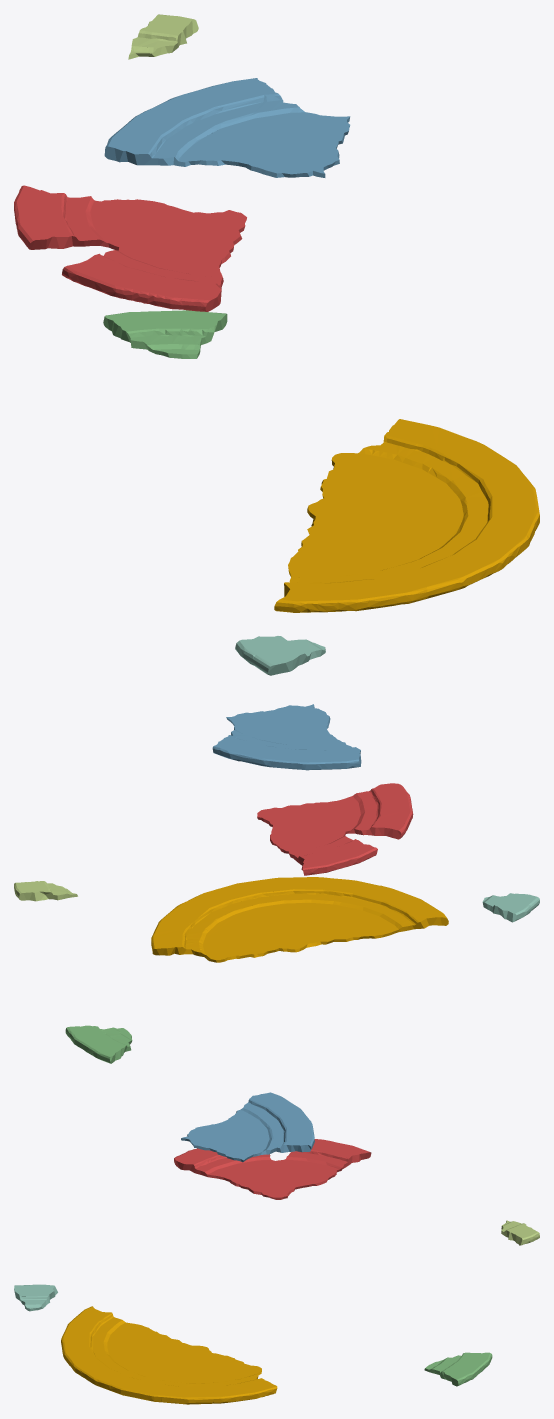
The model's file is fractured_78_6pcs_transformed.glb.
3 renders of one model, top to bottom at view 1: azimuth 30°, elevation 25°; view 2: azimuth 150°, elevation 25°; view 3: azimuth 270°, elevation 25°, orthographic. The views are drawn at different scales.
Visible parts, largest first — view 1: piece_0.obj, piece_1.obj, piece_2.obj, piece_3.obj, piece_4.obj, piece_5.obj; view 2: piece_0.obj, piece_1.obj, piece_2.obj, piece_3.obj, piece_4.obj, piece_5.obj; view 3: piece_0.obj, piece_1.obj, piece_2.obj, piece_3.obj, piece_4.obj, piece_5.obj.
Boxes of the visible parts, left/top/right/bottom form: piece_0.obj: left=274, top=419, right=539, bottom=612; piece_1.obj: left=14, top=185, right=246, bottom=311; piece_2.obj: left=104, top=78, right=350, bottom=177; piece_3.obj: left=103, top=310, right=227, bottom=358; piece_4.obj: left=235, top=636, right=325, bottom=675; piece_5.obj: left=128, top=14, right=198, bottom=59; piece_0.obj: left=151, top=877, right=448, bottom=962; piece_1.obj: left=257, top=783, right=413, bottom=875; piece_2.obj: left=212, top=704, right=361, bottom=770; piece_3.obj: left=65, top=1025, right=132, bottom=1063; piece_4.obj: left=482, top=893, right=539, bottom=922; piece_5.obj: left=14, top=881, right=77, bottom=901; piece_0.obj: left=61, top=1306, right=277, bottom=1404; piece_1.obj: left=174, top=1139, right=371, bottom=1199; piece_2.obj: left=181, top=1092, right=314, bottom=1162; piece_3.obj: left=424, top=1352, right=492, bottom=1386; piece_4.obj: left=14, top=1284, right=57, bottom=1311; piece_5.obj: left=501, top=1220, right=539, bottom=1245.
Size of the model in its own units: 1 by 0.8697 by 1.93.
